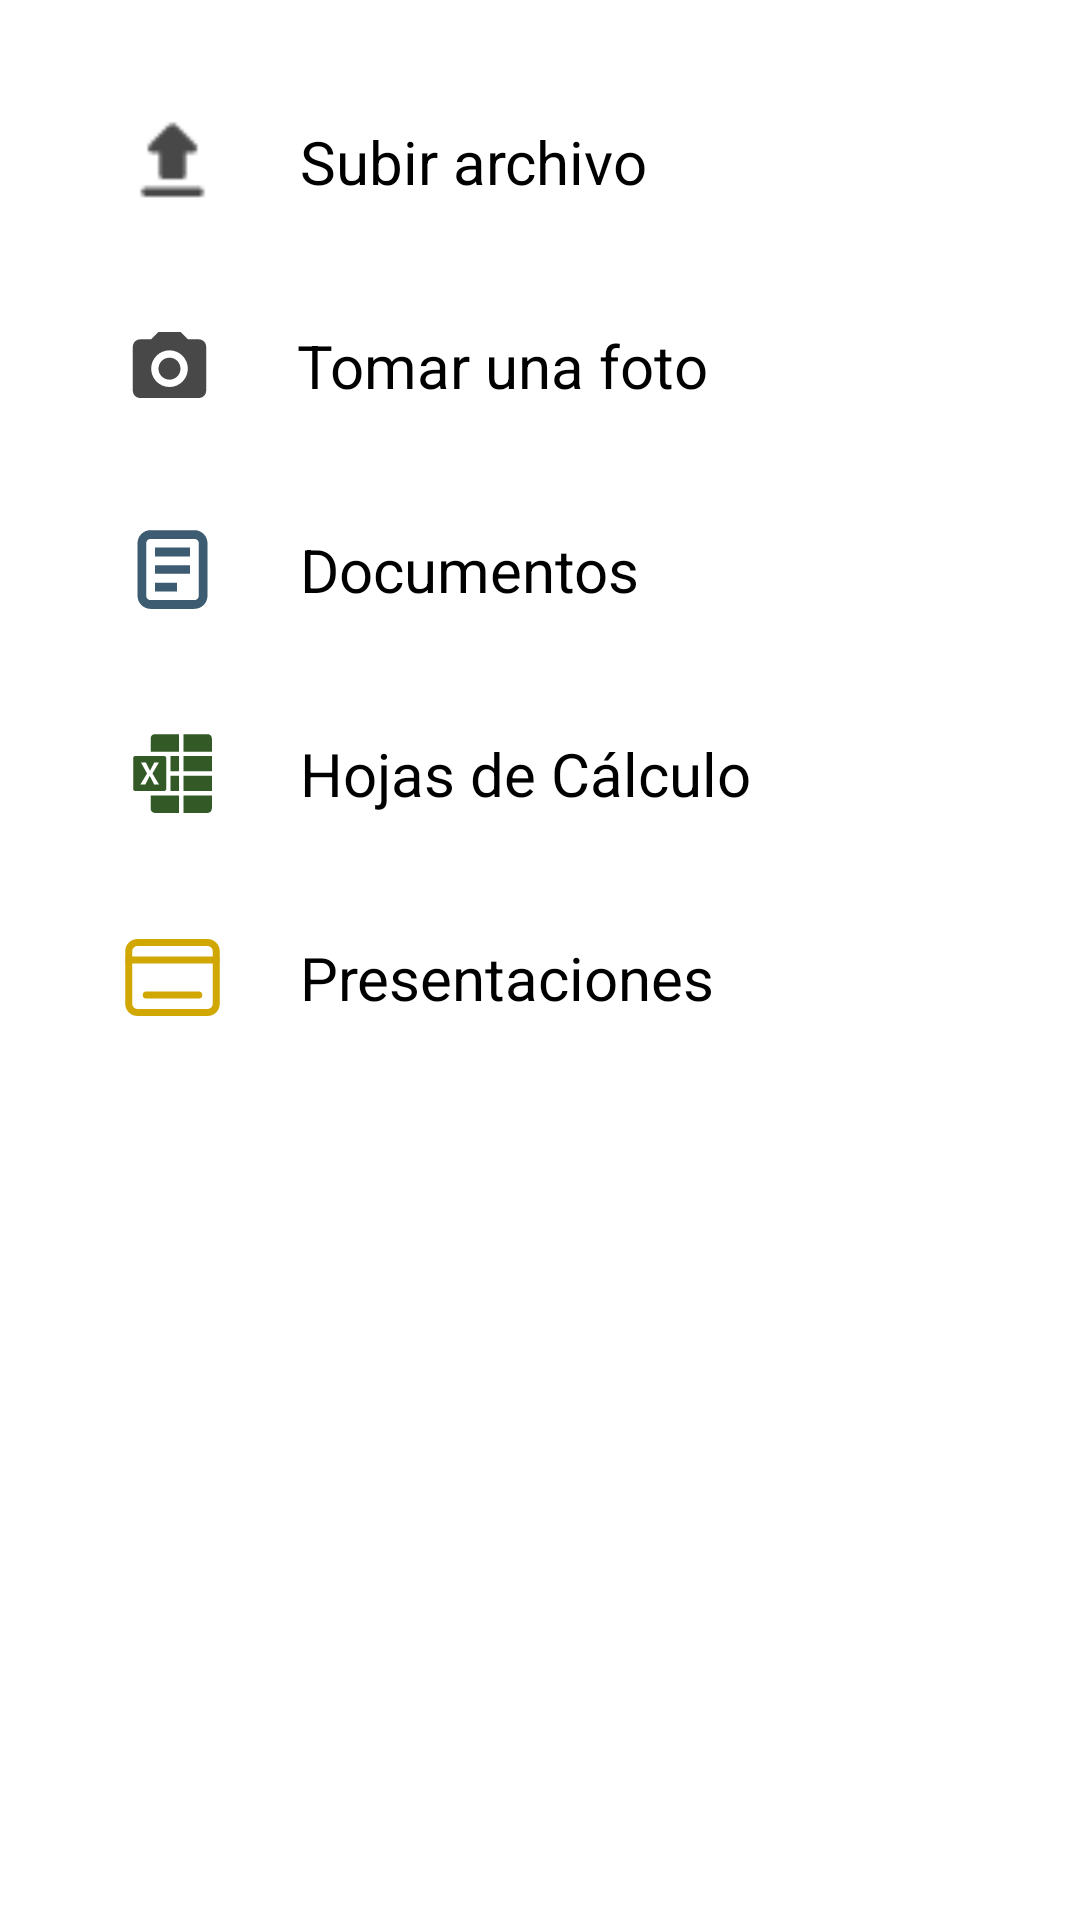

Where icons sit on this 1080x1920 app screen, as (x1, y1, x2, y2):
camerabottom: (132, 332, 207, 398)
slides: (125, 939, 220, 1016)
upload: (140, 122, 205, 198)
